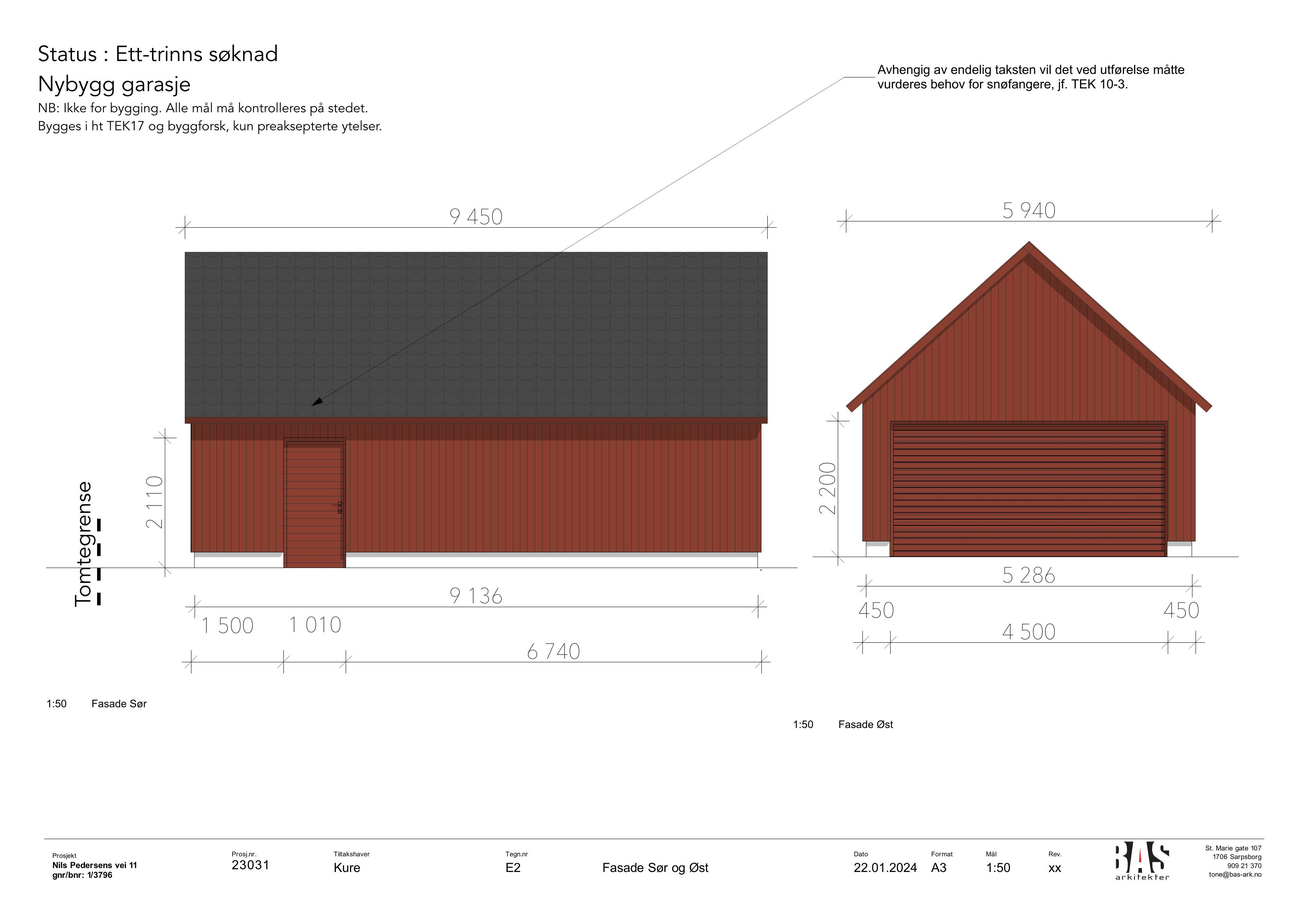fasade: (184, 250, 769, 570), (846, 240, 1213, 558)
